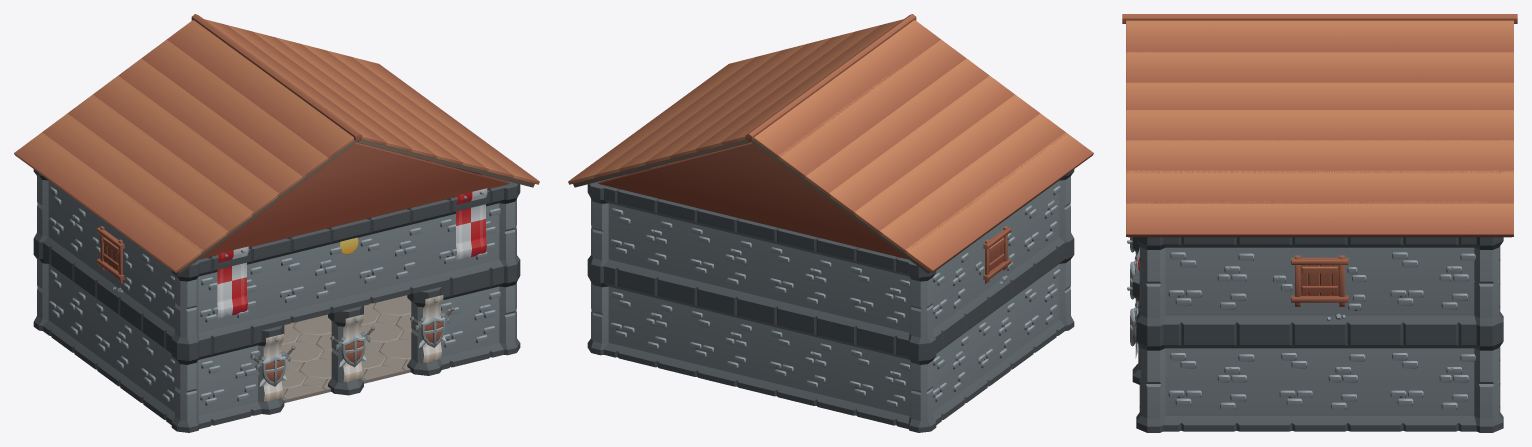
Rendered from bank_emberhold.glb.
The picture shows the model from 3 angles, left to right: view 1: azimuth 30°, elevation 25°; view 2: azimuth 150°, elevation 25°; view 3: azimuth 270°, elevation 25°; orthographic projection. The views are drawn at different scales.
Parts seen in each view (by area): view 1: bank_emberhold; view 2: bank_emberhold; view 3: bank_emberhold.
Part boxes in pixels (x1,y1,x2,y2): bank_emberhold: (14,14,539,432); bank_emberhold: (568,14,1093,432); bank_emberhold: (1122,14,1517,432).
Bounding box in the file's own units: 13.76 × 9.75 × 10.7.
Materials: 4 (4 with a texture image).
